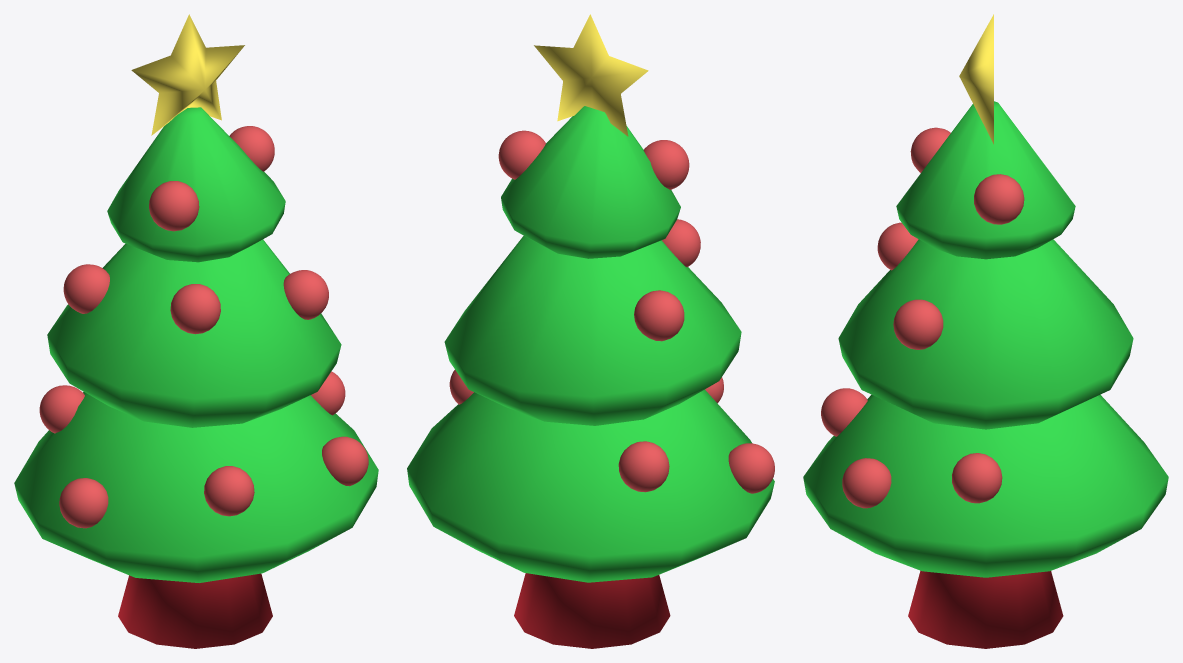
File: sapin.glb
The picture shows the model from 3 angles, left to right: view 1: azimuth 30°, elevation 25°; view 2: azimuth 150°, elevation 25°; view 3: azimuth 270°, elevation 25°; orthographic projection.
Parts seen in each view (by area): view 1: Circle, Star, Sphere.001, Sphere.005, Sphere.006, Sphere.002, Sphere, Sphere.004, Sphere.003, Sphere.009, Sphere.007, Sphere.008; view 2: Circle, Star, Sphere.009, Sphere.004, Sphere.002, Sphere.006, Sphere.007, Sphere.005; view 3: Circle, Star, Sphere.007, Sphere.008, Sphere.003, Sphere, Sphere.001, Sphere.005, Sphere.006.
Part boxes in pixels (<box>): Circle: <box>14,107,378,648</box>; Star: <box>131,14,244,135</box>; Sphere.001: <box>204,466,254,516</box>; Sphere.005: <box>170,284,220,334</box>; Sphere.006: <box>149,181,199,231</box>; Sphere.002: <box>59,478,108,528</box>; Sphere: <box>322,436,368,486</box>; Sphere.004: <box>63,264,109,313</box>; Sphere.003: <box>283,270,328,319</box>; Sphere.009: <box>39,385,84,433</box>; Sphere.007: <box>229,126,274,171</box>; Sphere.008: <box>311,371,345,415</box>; Circle: <box>407,106,774,648</box>; Star: <box>534,14,648,136</box>; Sphere.009: <box>618,441,669,492</box>; Sphere.004: <box>634,290,684,341</box>; Sphere.002: <box>728,443,774,493</box>; Sphere.006: <box>643,140,689,189</box>; Sphere.007: <box>498,130,545,179</box>; Sphere.005: <box>662,219,700,267</box>; Circle: <box>803,101,1168,648</box>; Star: <box>959,14,993,144</box>; Sphere.007: <box>974,174,1024,224</box>; Sphere.008: <box>952,453,1002,503</box>; Sphere.003: <box>893,299,943,349</box>; Sphere: <box>842,458,891,508</box>; Sphere.001: <box>821,388,867,436</box>; Sphere.005: <box>877,222,918,270</box>; Sphere.006: <box>910,127,950,172</box>.
Size of what is drawn, in the model's own units: 5.26 by 9.55 by 5.26.
